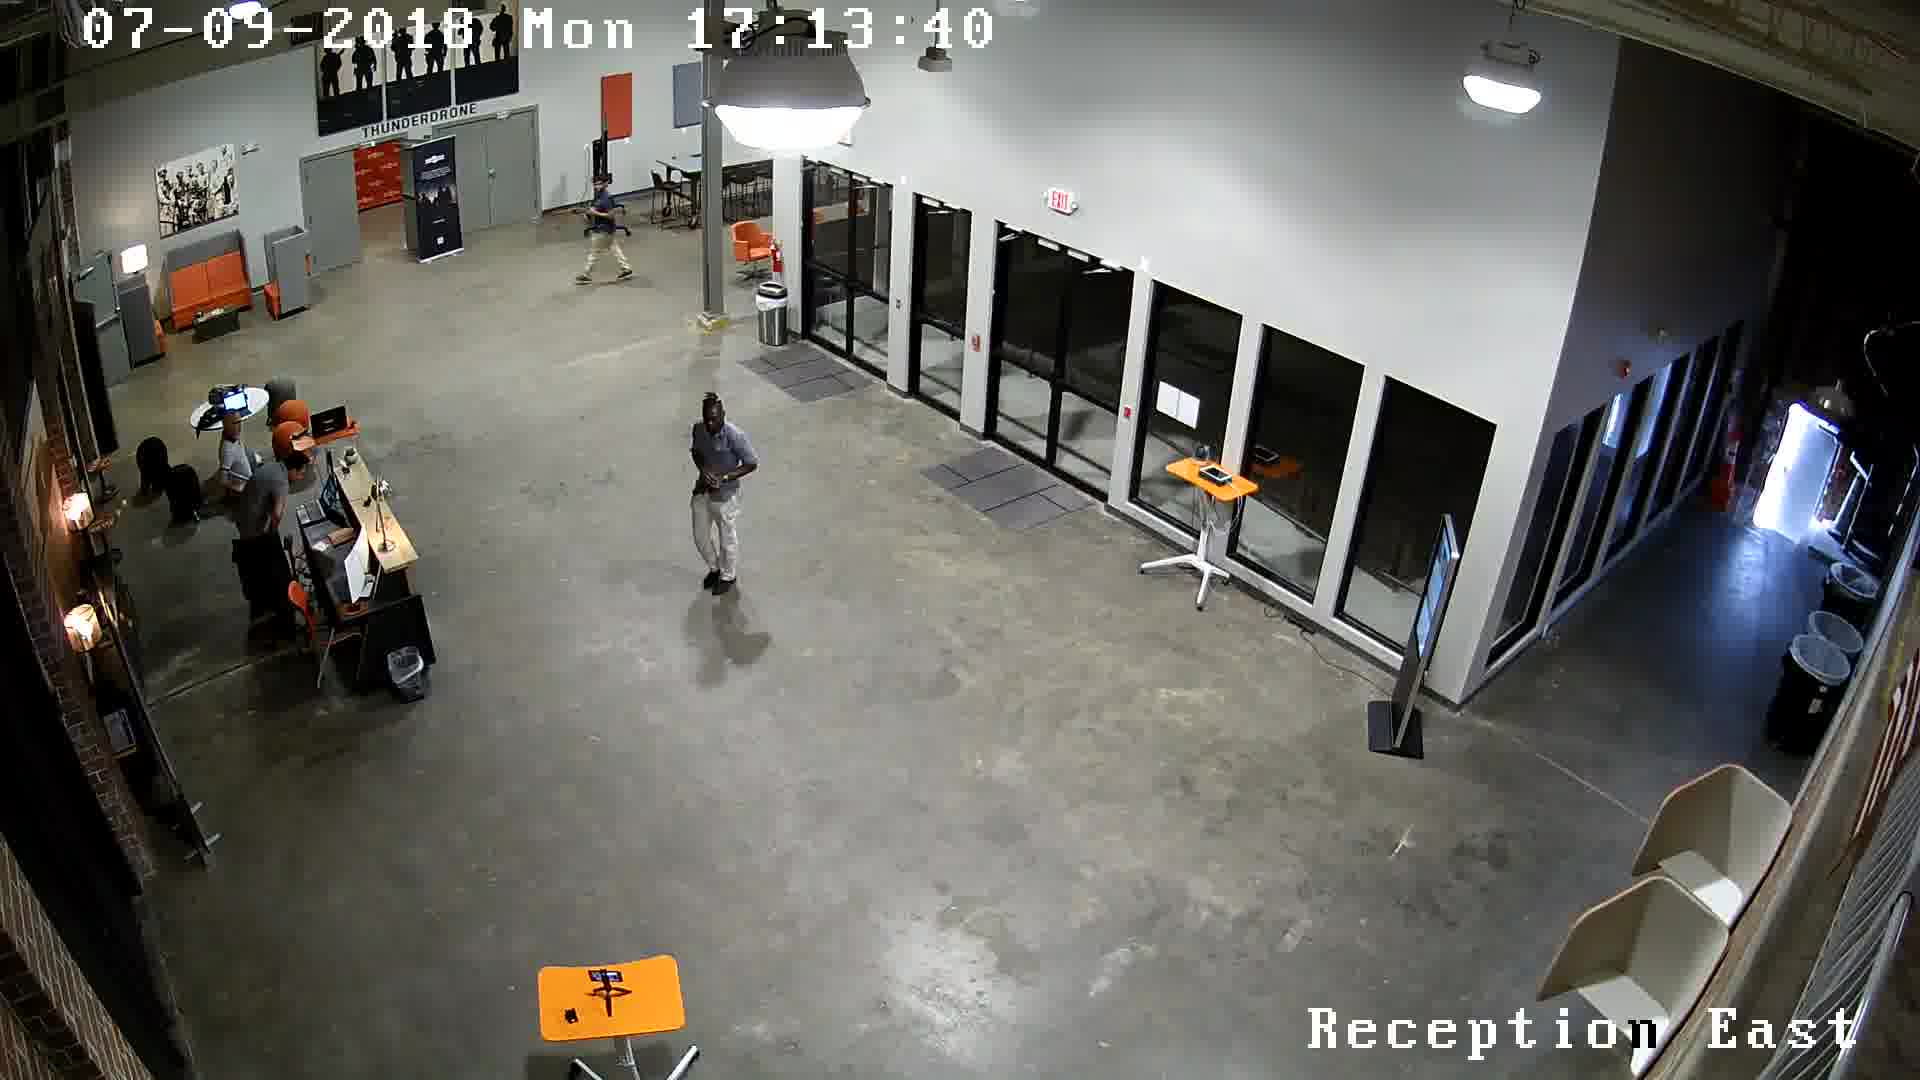pistol: (688, 471, 723, 508)
